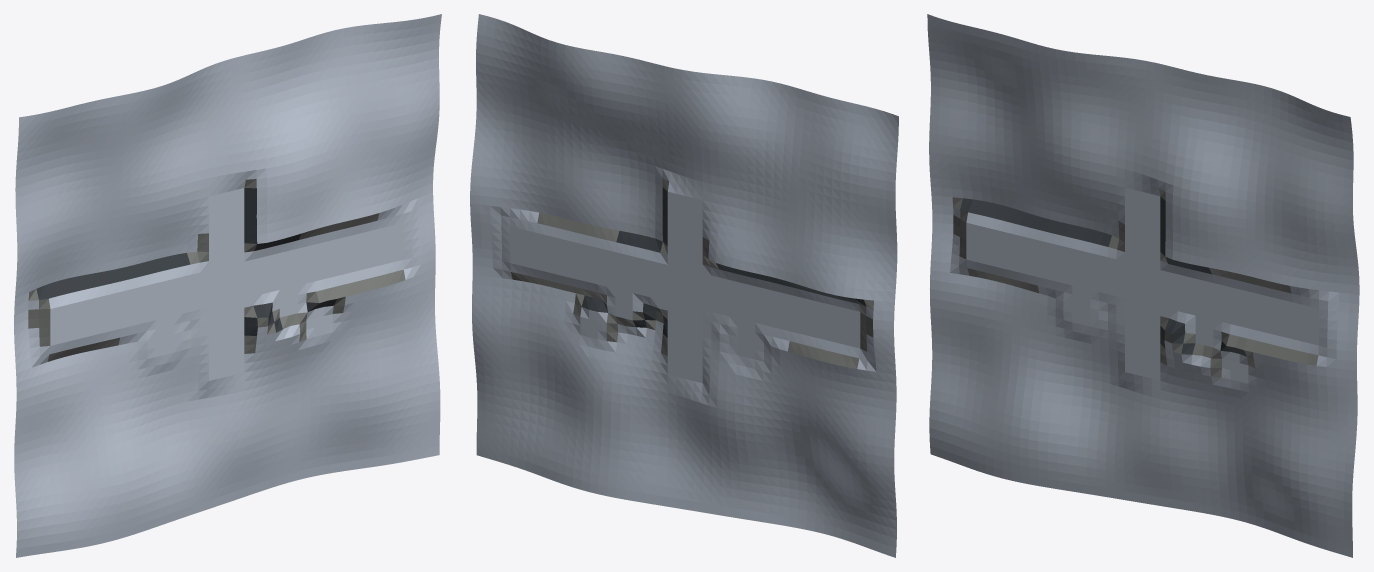
Rendered from Northern_Rolling_Terrain.obj.
3 renders of one model, left to right at view 1: azimuth 30°, elevation 25°; view 2: azimuth 150°, elevation 25°; view 3: azimuth 330°, elevation 25°, orthographic.
Visible parts, largest first — view 1: Northern_Rolling_Terrain; view 2: Northern_Rolling_Terrain; view 3: Northern_Rolling_Terrain.
Boxes of the visible parts, x1=… form: Northern_Rolling_Terrain: x1=14, y1=14, x2=441, y2=557; Northern_Rolling_Terrain: x1=470, y1=14, x2=898, y2=557; Northern_Rolling_Terrain: x1=927, y1=14, x2=1359, y2=557.
Bounding box in the file's own units: 8400 × 8400 × 592.
